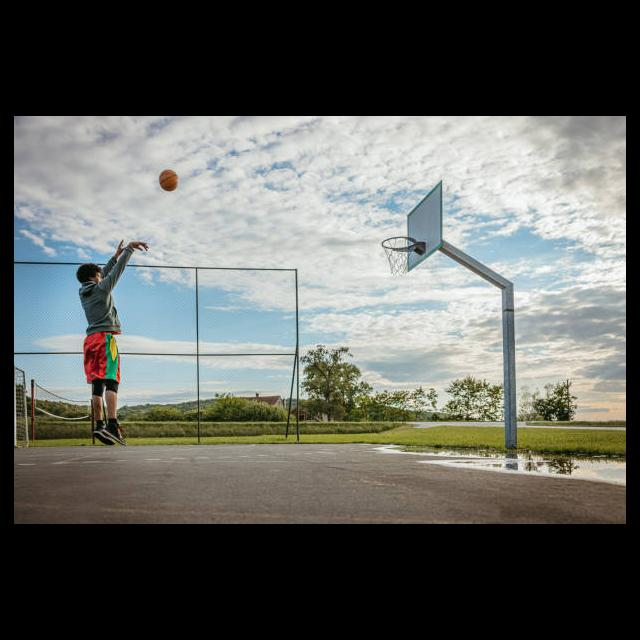basketball: (158, 170, 179, 191)
hoop: (382, 237, 416, 275)
